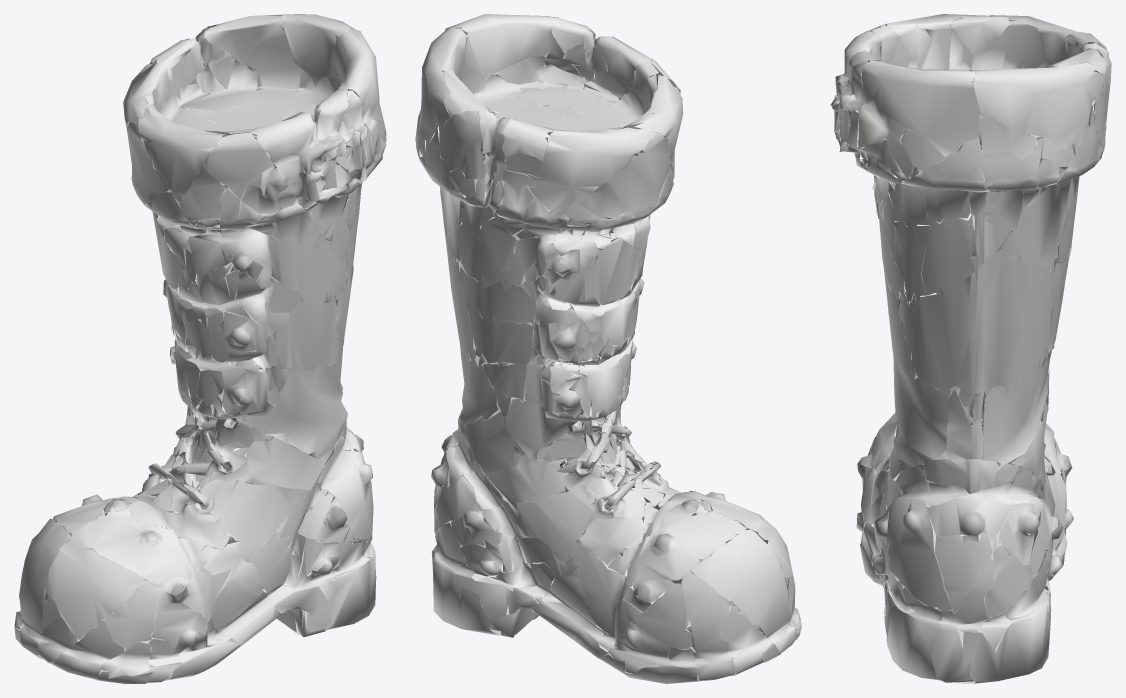
Rendered from gear_boots.glb.
The picture shows the model from 3 angles, left to right: view 1: azimuth 30°, elevation 25°; view 2: azimuth 150°, elevation 25°; view 3: azimuth 270°, elevation 25°; orthographic projection. The views are drawn at different scales.
Visible parts, largest first — view 1: Mesh_0; view 2: Mesh_0; view 3: Mesh_0.
Part boxes in pixels (x1,y1,x2,y2): Mesh_0: (14, 14, 386, 683); Mesh_0: (415, 14, 801, 683); Mesh_0: (830, 14, 1111, 683).
Bounding box in the file's own units: 0.3542 × 0.55 × 0.2298.
Materials: 1 (1 with a texture image).
